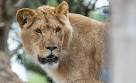lion: (15, 1, 106, 83)
